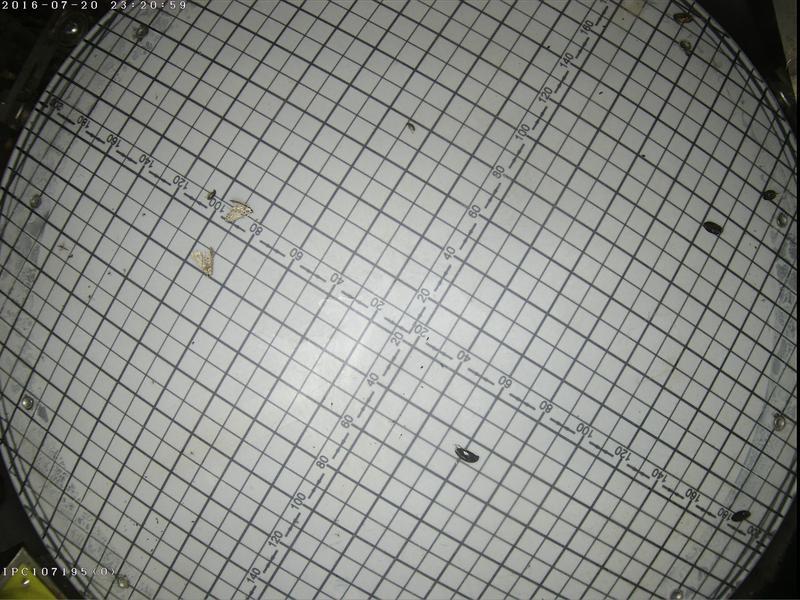Spodoptera exigua: (226, 195, 254, 221), (190, 245, 214, 275)
